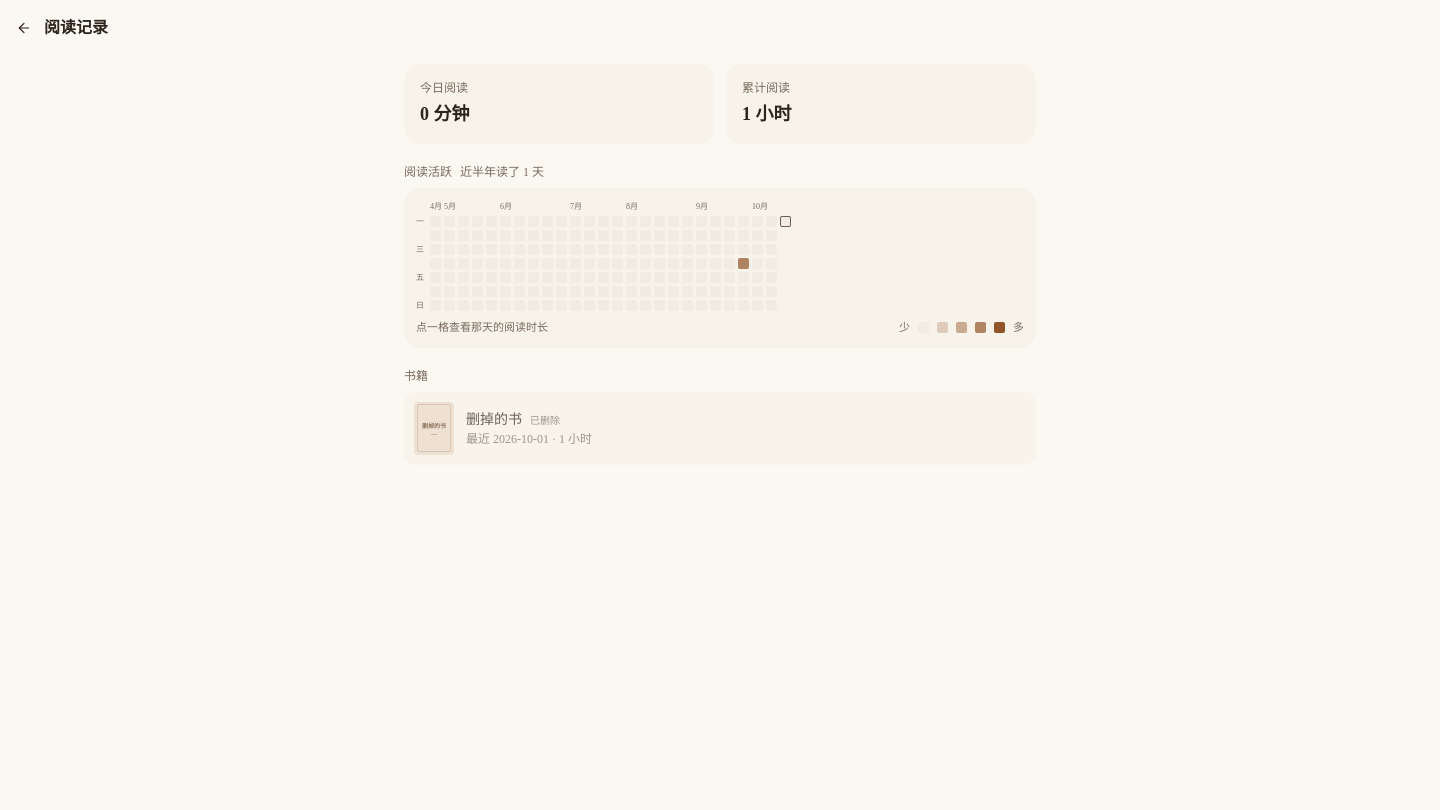
Scenario: 阅读记录 › keeps deleted books and says they cannot be opened
Expected: the table named "阅读活跃" is shown, [430,200,791,311]
Click the button "删掉的书" at [434, 428], box [404,392,1036,465]
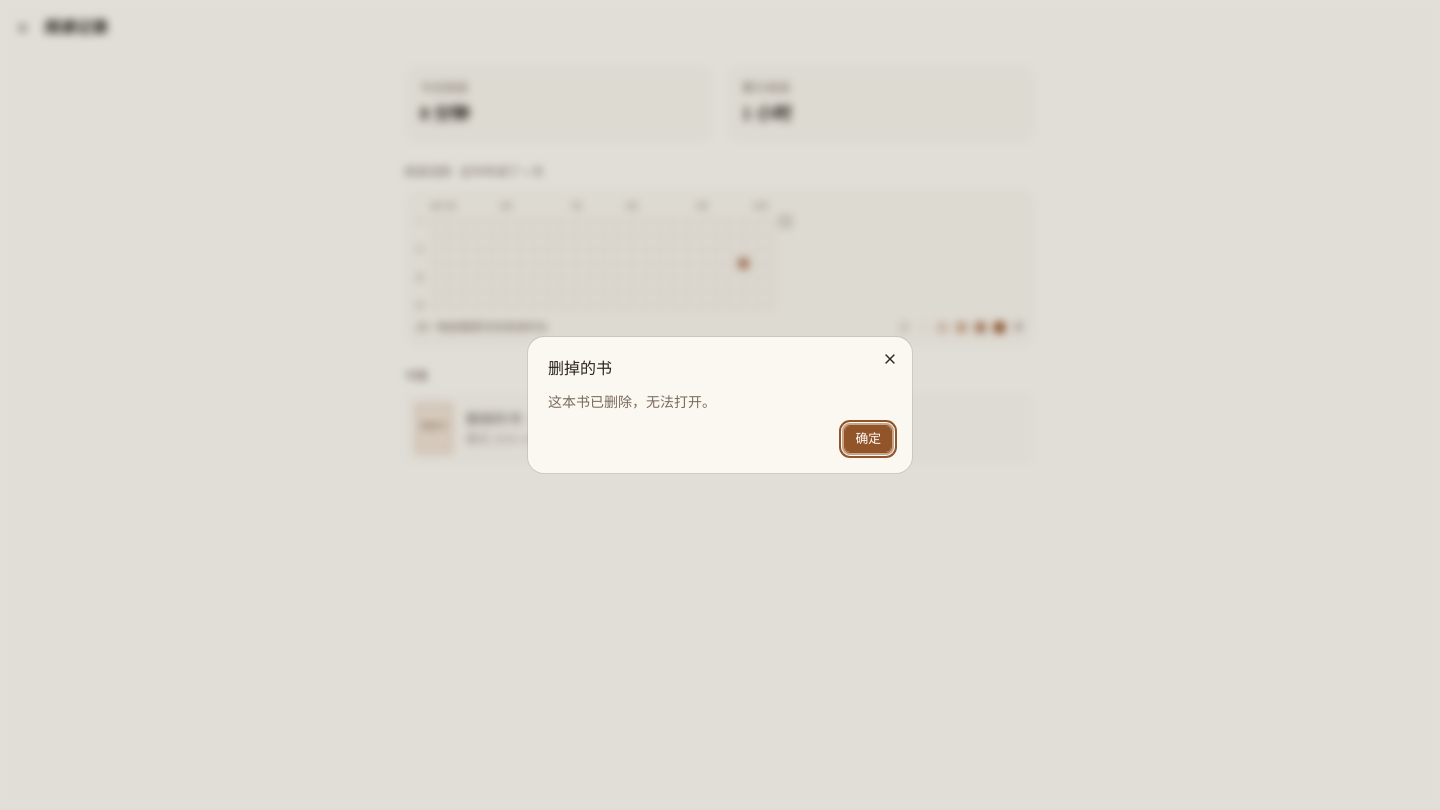
Expected: the text "这本书已删除，无法打开。" is shown, [548,395,716,410]
